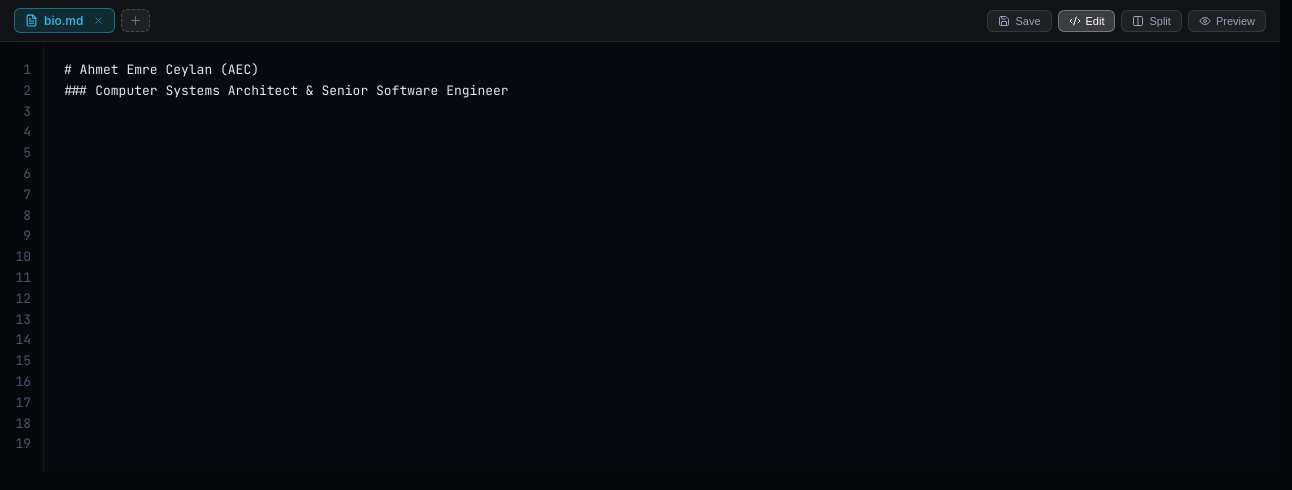
MarkdownViewerApp Component › should close tab and return to empty state when closing the only open file
Expected: the tab "bio.md" is shown, [14,8,115,33]
Click the button titled "Close tab": (99, 20) [91,13,106,28]
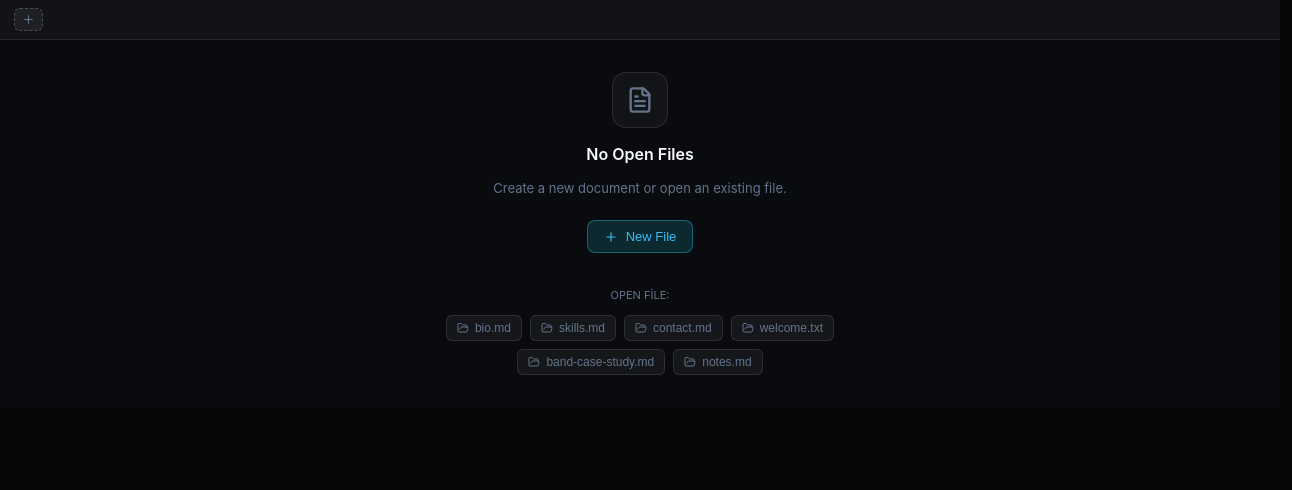
Result: the heading "No Open Files" is shown at [586,144,694,164]
